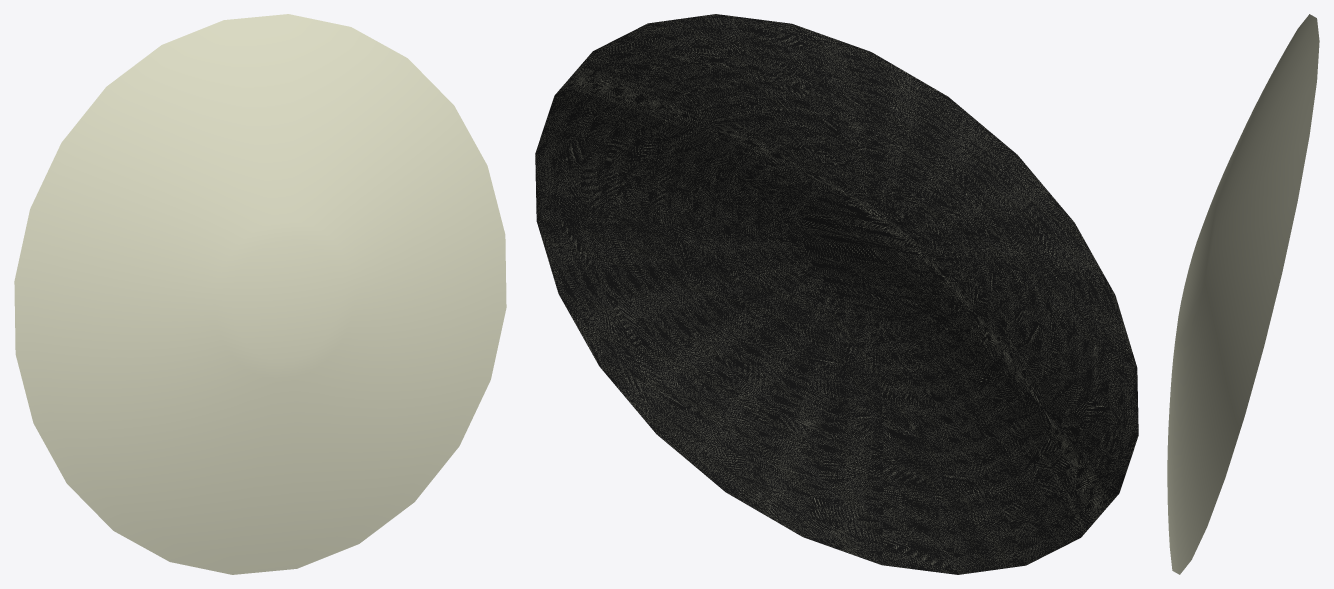
Rendered from original-128.obj.
3 renders of one model, left to right at view 1: azimuth 30°, elevation 25°; view 2: azimuth 150°, elevation 25°; view 3: azimuth 270°, elevation 25°, orthographic. The views are drawn at different scales.
Visible parts, largest first — view 1: mesh63/mesh63-geometry/material_2#mesh63-geometry; view 2: mesh63/mesh63-geometry/material_2#mesh63-geometry; view 3: mesh63/mesh63-geometry/material_2#mesh63-geometry.
Part boxes in pixels (x1,y1,x2,y2): mesh63/mesh63-geometry/material_2#mesh63-geometry: (14,14,506,574); mesh63/mesh63-geometry/material_2#mesh63-geometry: (535,14,1138,574); mesh63/mesh63-geometry/material_2#mesh63-geometry: (1167,14,1319,574).
Bounding box in the file's own units: 0.0401 × 0.0387 × 0.0105.
